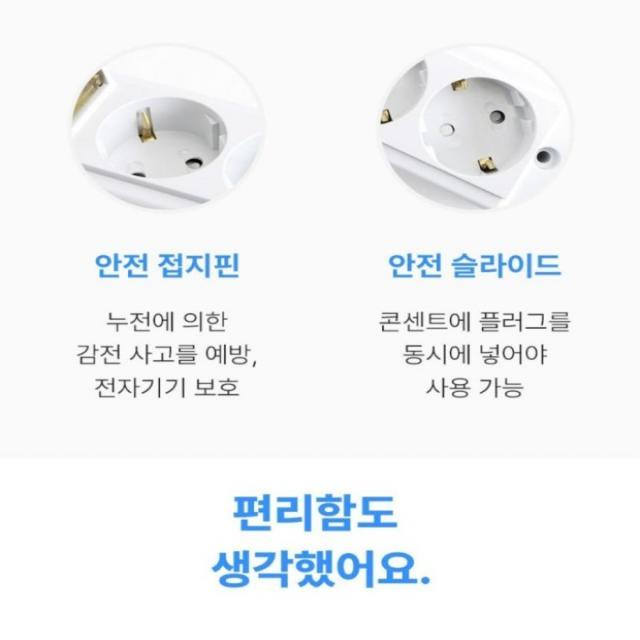typeb: (354, 44, 589, 216), (57, 35, 262, 222)
